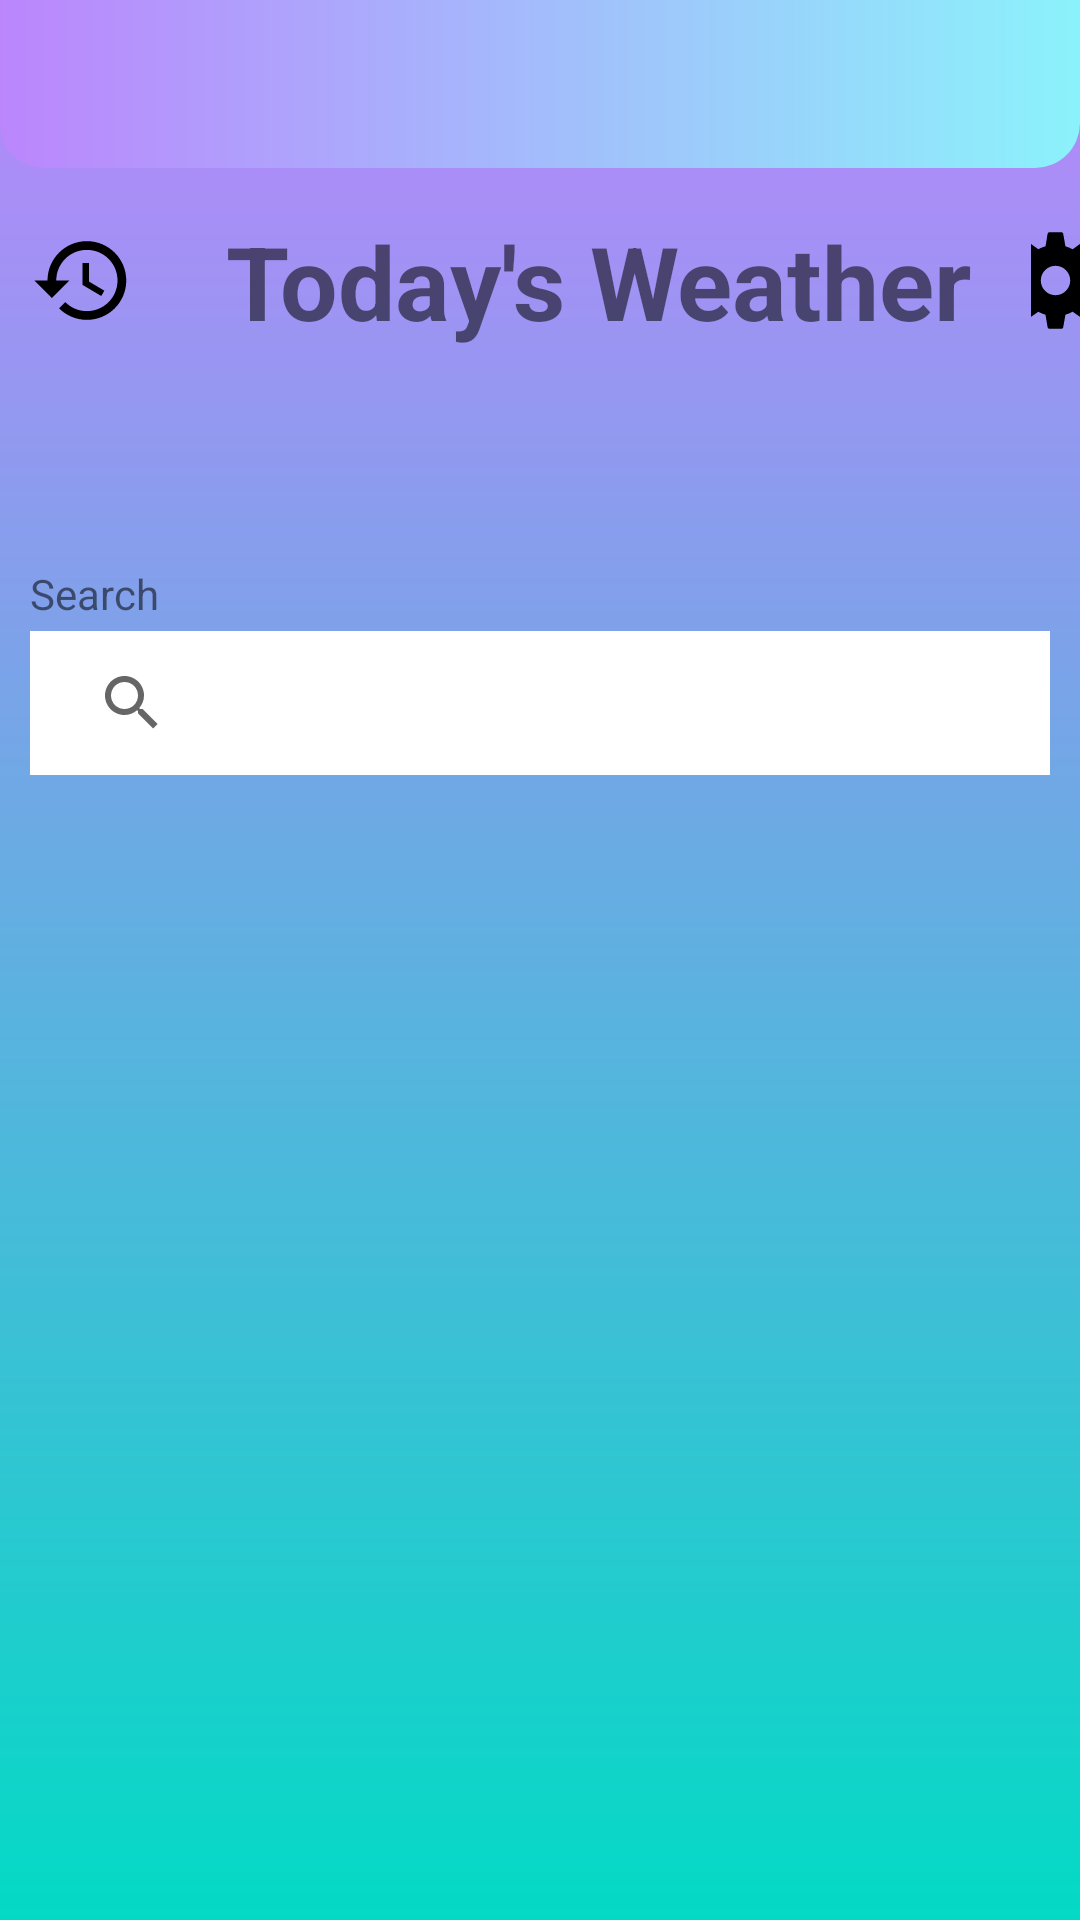

Icons on this 1080px x 1920px Android screen, each with the point to tap as (x=x, y=y):
History Button: (x=80, y=280)
Settings button: (x=1055, y=280)
